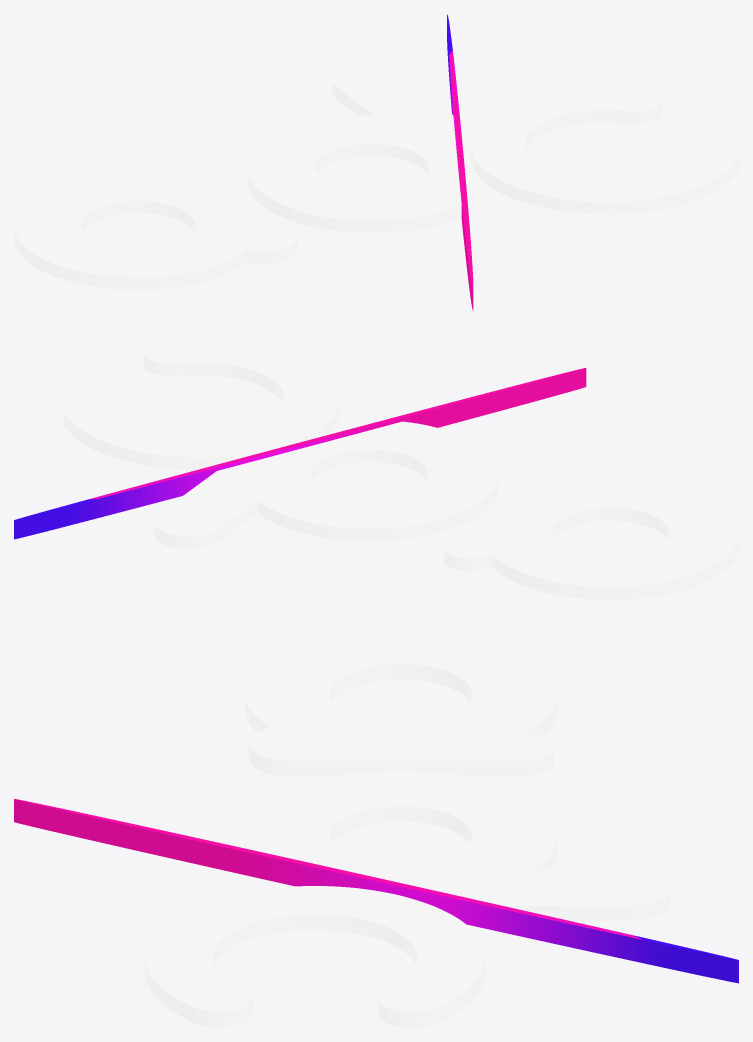
Rendered from adc.glb.
The picture shows the model from 3 angles, top to bottom: view 1: azimuth 30°, elevation 25°; view 2: azimuth 150°, elevation 25°; view 3: azimuth 270°, elevation 25°; orthographic projection. The views are drawn at different scales.
Parts seen in each view (by area): view 1: path860-6, ellipse3447-5; view 2: path860-6, ellipse3447-5; view 3: path860-6, ellipse3447-5.
Boxes of the visible parts, box(x1,y1,x2,y2) form: path860-6: box(14, 66, 738, 290); ellipse3447-5: box(447, 14, 473, 310); path860-6: box(63, 339, 738, 599); ellipse3447-5: box(14, 368, 586, 539); path860-6: box(145, 628, 670, 1027); ellipse3447-5: box(14, 799, 738, 983).
Bounding box in the file's own units: 2.19 × 0.0617 × 1.75.
4 materials, 1 textured.
